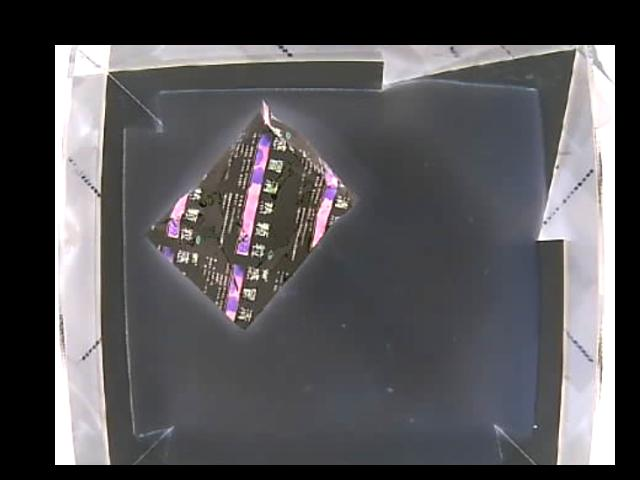Medicine: (142, 103, 353, 330)
